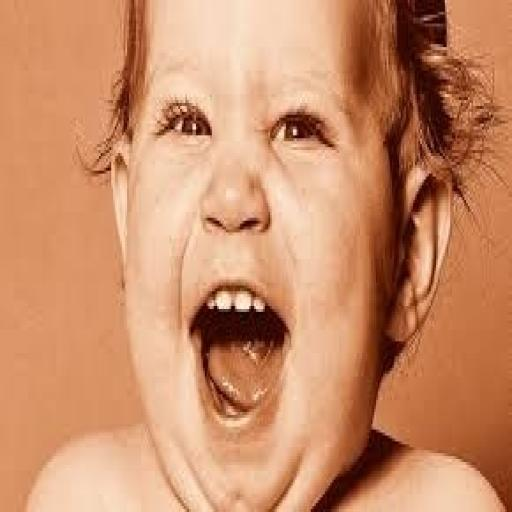laughing: (21, 3, 505, 506)
